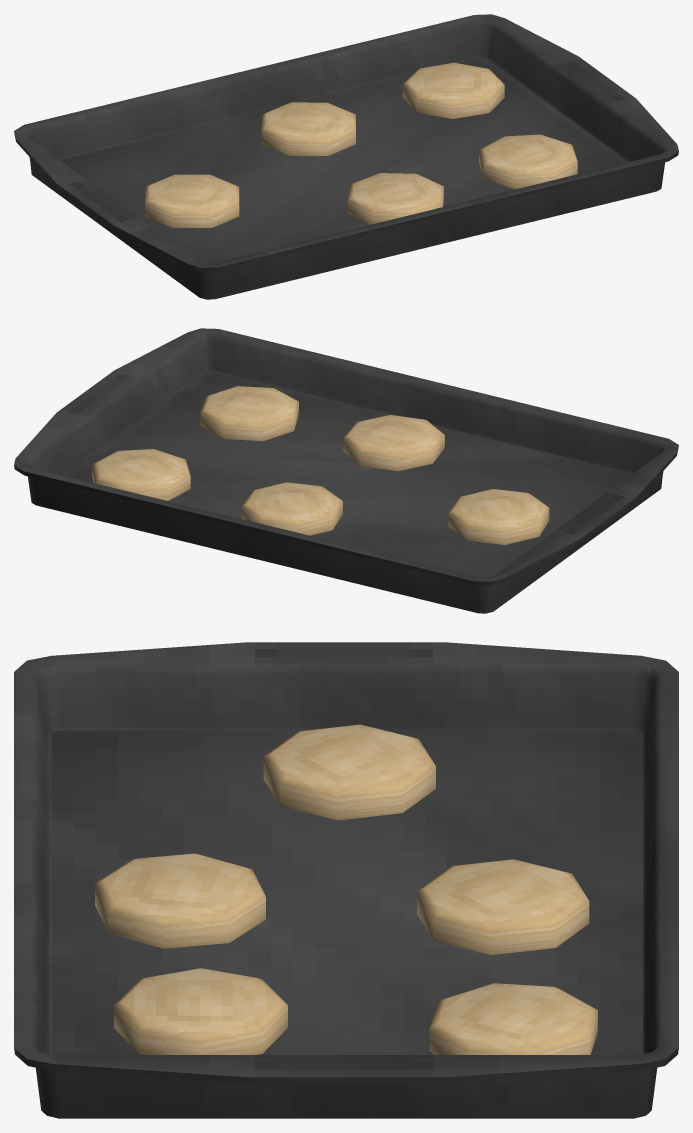
File: BakingTrayBiscuit.fbx
3 renders of one model, top to bottom at view 1: azimuth 30°, elevation 25°; view 2: azimuth 150°, elevation 25°; view 3: azimuth 270°, elevation 25°, orthographic. The views are drawn at different scales.
Visible parts, largest first — view 1: BiscuitDough; view 2: BiscuitDough; view 3: BiscuitDough.
Part boxes in pixels (x1,y1,x2,y2): BiscuitDough: [14, 14, 678, 299]; BiscuitDough: [14, 328, 678, 613]; BiscuitDough: [14, 642, 678, 1118].
Bounding box in the file's own units: 102 × 7.31 × 66.19.
